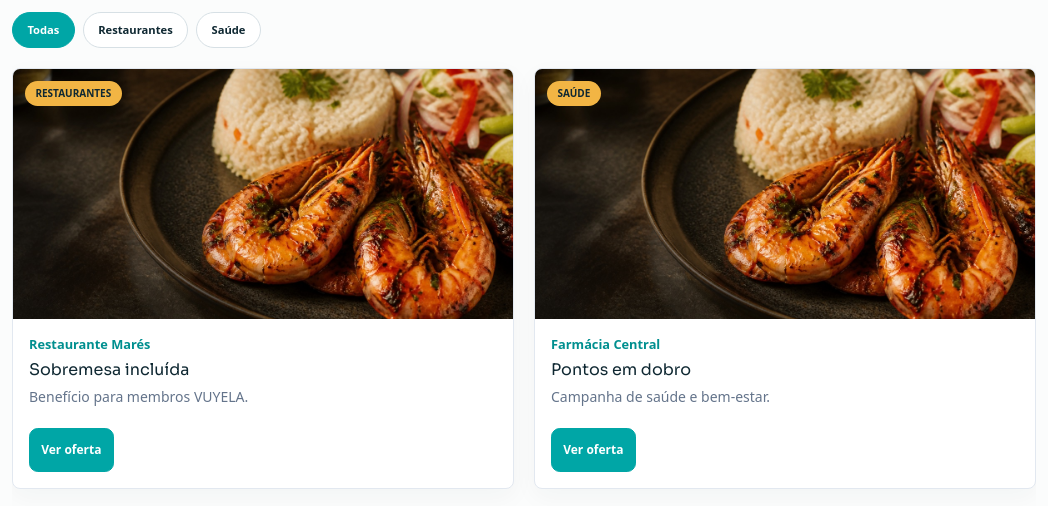
Test case: customer offer grid › filters real offers by every available category and restores all results
Expected: the heading "Sobremesa incluída" is shown, top-left (29, 359), bottom-right (190, 380)
Expected: the heading "Pontos em dobro" is shown, top-left (551, 359), bottom-right (691, 380)
Click the button "Saúde" at [228, 30], box top-left (196, 12), bottom-right (261, 48)
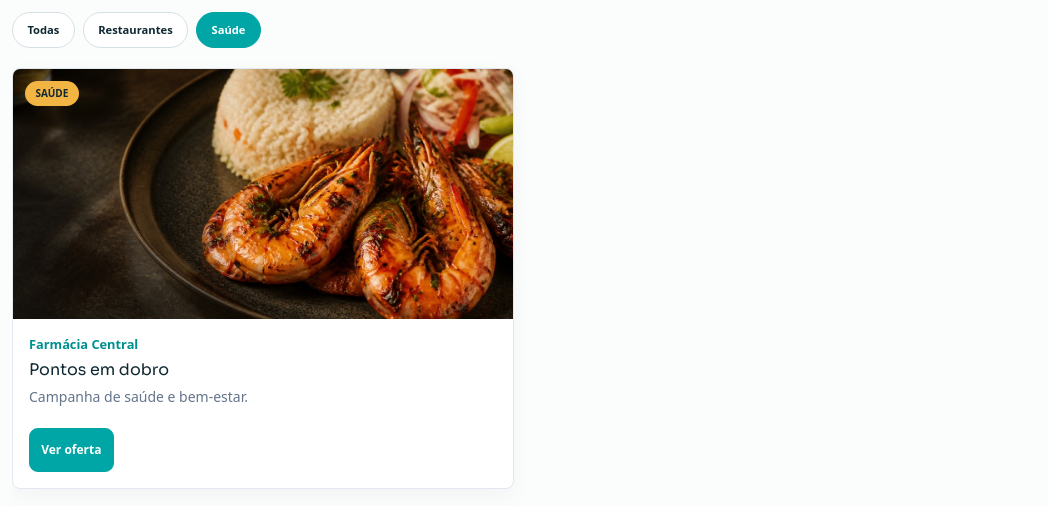
Expected: the heading "Pontos em dobro" is shown, top-left (29, 359), bottom-right (169, 380)
Now the heading "Sobremesa incluída" is gone
Click the button "Todas" at [43, 30], box top-left (12, 12), bottom-right (75, 48)
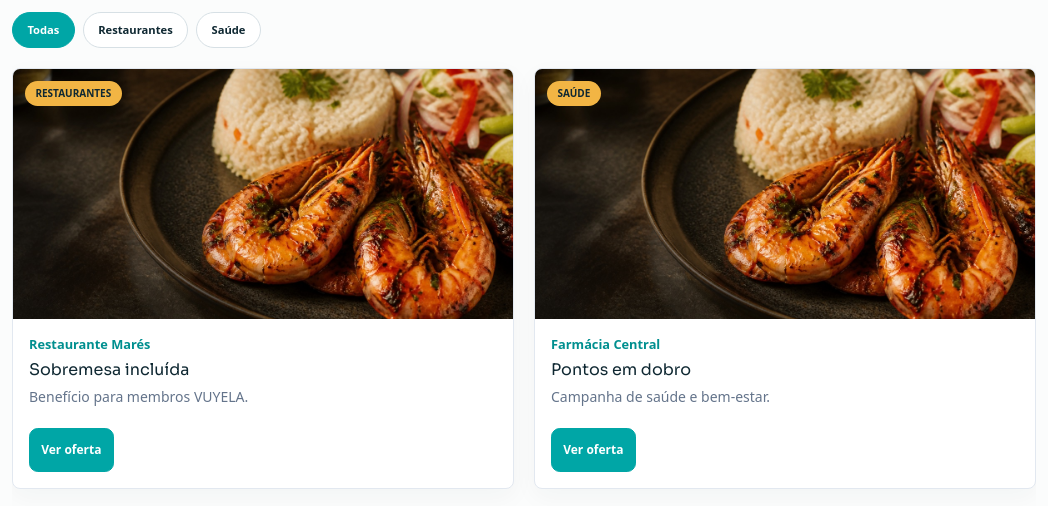
Now the heading "Sobremesa incluída" is shown, box top-left (29, 359), bottom-right (190, 380)
